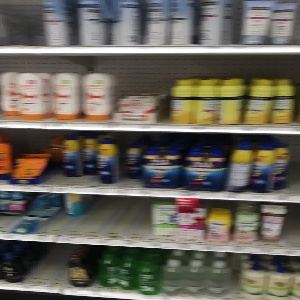void: (82, 194, 149, 241), (27, 244, 70, 287), (4, 1, 42, 45)
